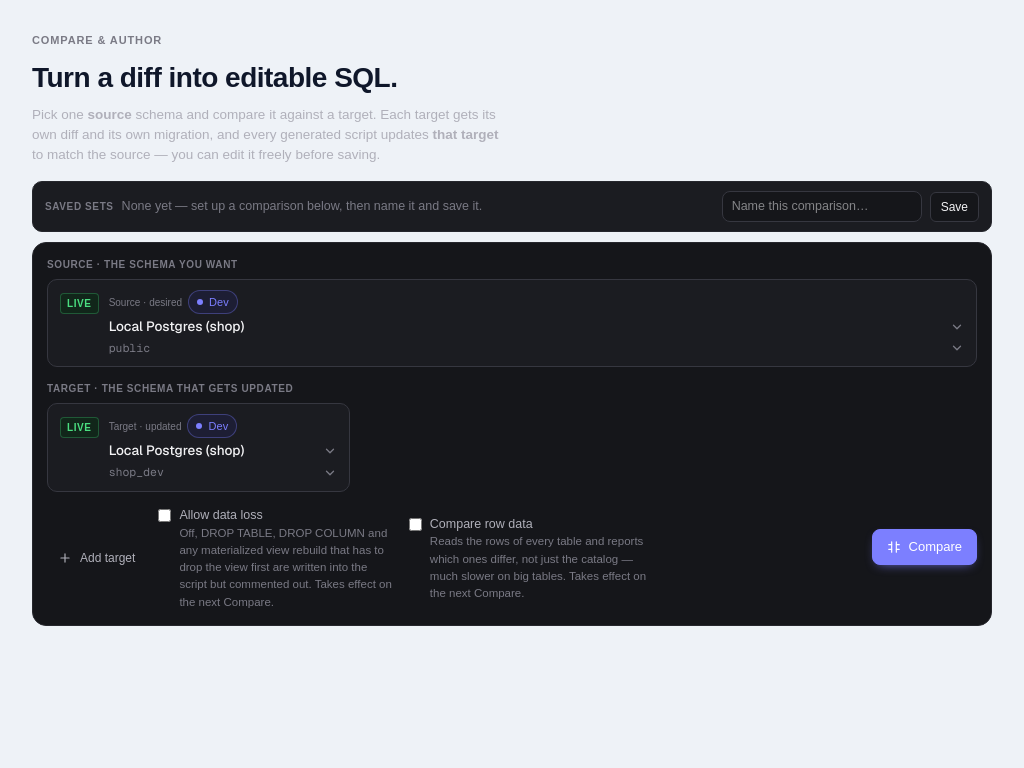
changes that have not been applied yet › says the same about a changed picker
Click the dropdown named "Target · updated schema": click(223, 472) [109,464,337,481]
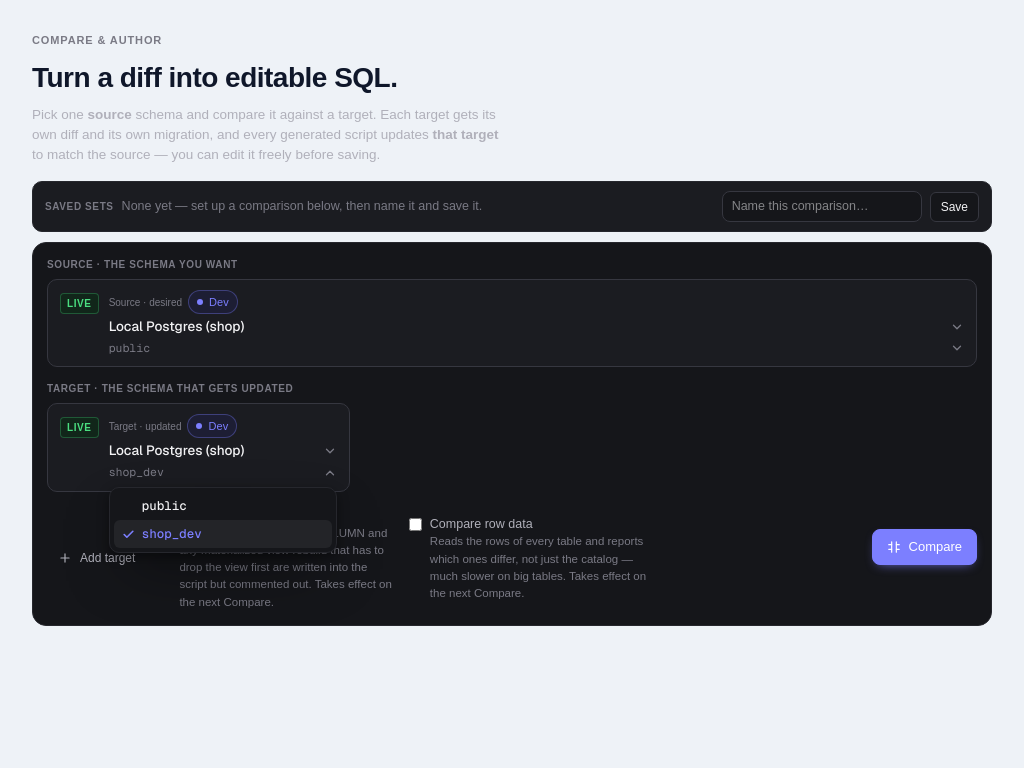
Click the option "public": click(164, 506) [142,497,187,514]
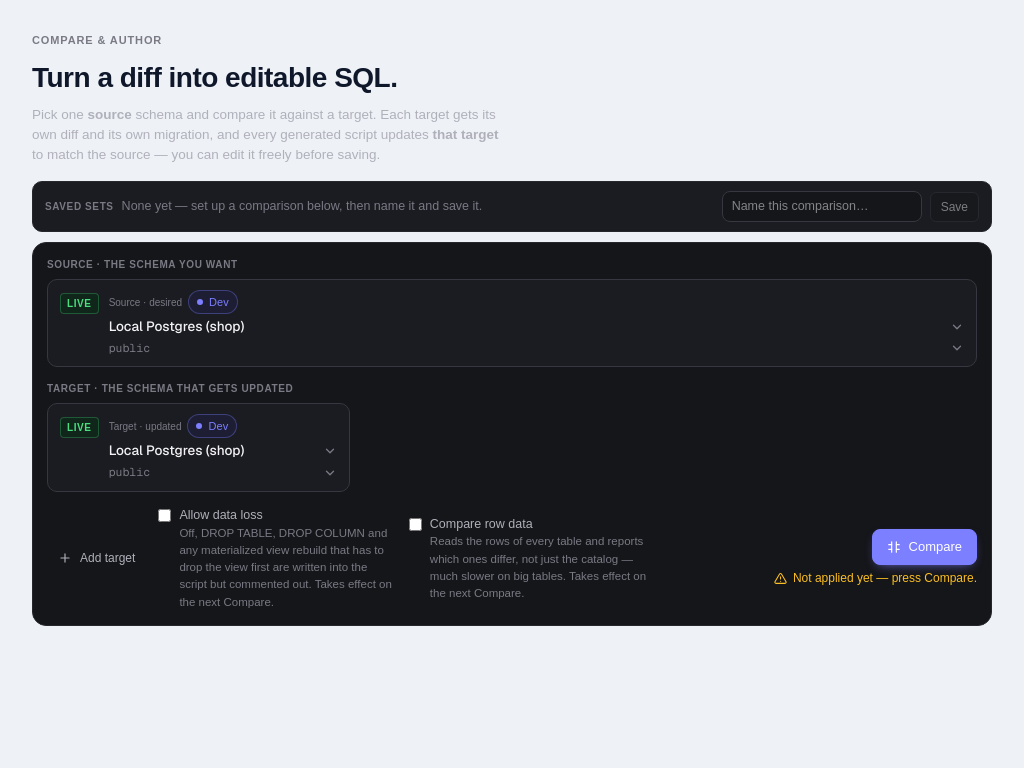
Now the text "Not applied yet — press Compare." is shown, box [774,570,977,588]
